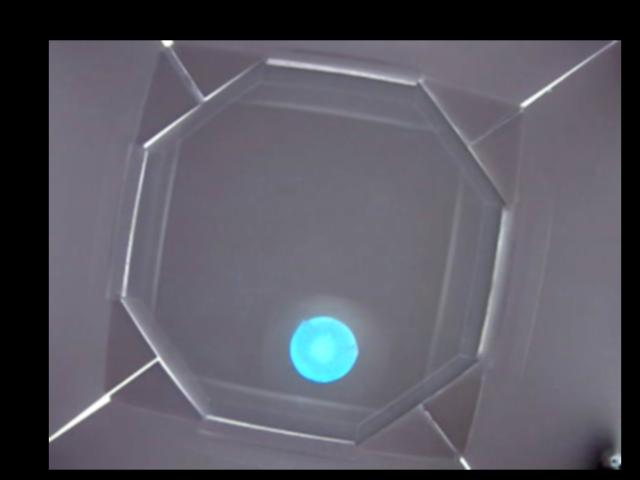Carrot: (288, 315, 358, 382)
